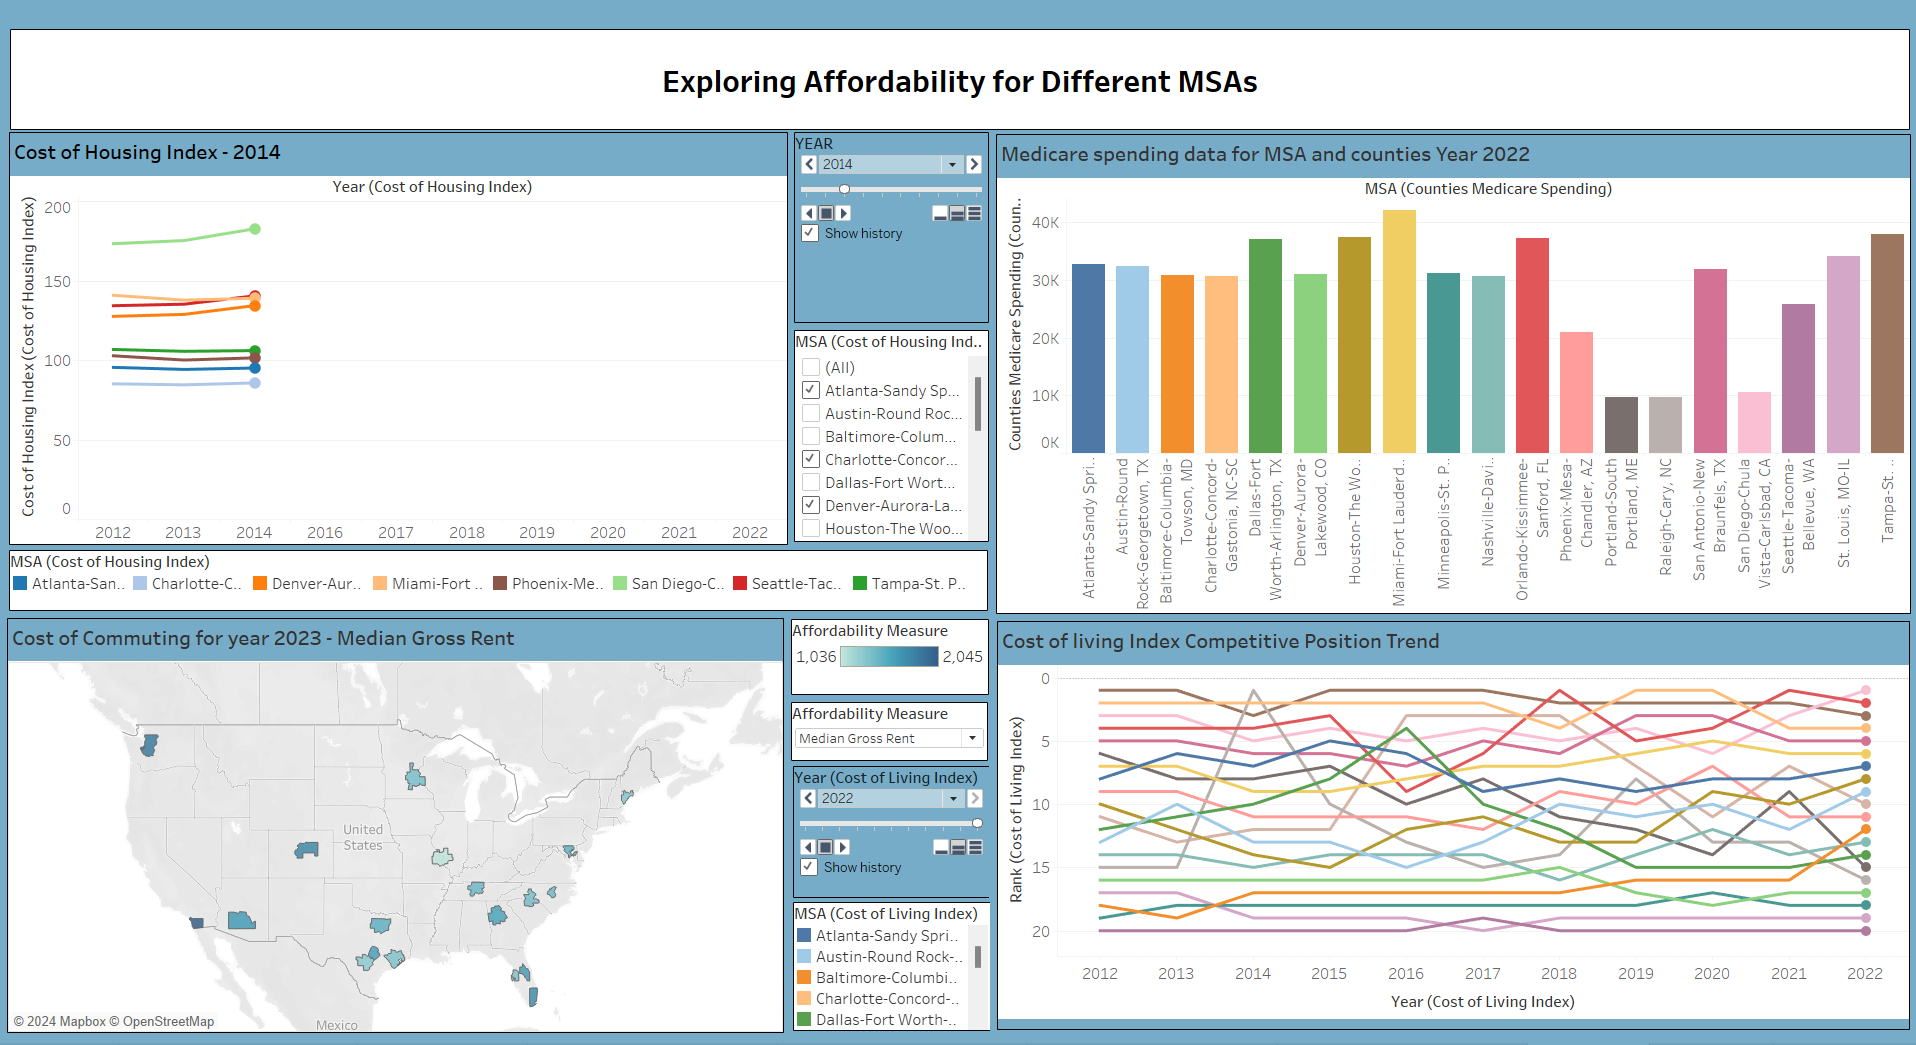

What the dashboard file says about the page in this screenshot:
{"tool":"tableau","page":{"name":"Dashboard 1","canvas":[1000,1000],"units":"permille","ordinal":0},"visuals":[{"type":"text","box":[6,28.2,989.7,96.4]},{"type":"worksheet","title":"Cost of Housing Index","mark":"Circle","rows":["Cost of Housing Index"],"cols":["Year (Cost of Housing Index)"],"box":[5.5,126.9,405.9,396]},{"type":"currpage","title":"Cost of Housing Index","box":[414.5,126.9,101.8,183.3]},{"type":"worksheet","title":"Medicare spending data for MSA and counties","mark":"Automatic","rows":["Counties Medicare Spending"],"cols":["MSA (Counties Medicare Spending)"],"box":[519.9,128.1,476.4,460.6]},{"type":"filter","title":"Cost of Housing Index","param":"[federated.0nevhgp1u82rwp0zt3kas08m5gsg].[none:MSA (Cost of Housing Index):nk]","box":[414.5,316.1,101.8,203.3]},{"type":"legend","title":"Cost of Housing Index","param":"[federated.0nevhgp1u82rwp0zt3kas08m5gsg].[none:MSA (Cost of Housing Index):nk]","box":[5.5,527.6,510.1,58.8]},{"type":"worksheet","title":"Cost of Commuting for year 2023","mark":"Multipolygon","cols":["Year (Median Gross Rent)"],"box":[4.9,592.2,404.7,398.4]},{"type":"legend","title":"Cost of Commuting for year 2023","param":"[federated.0nevhgp1u82rwp0zt3kas08m5gsg].[sum:Calculation_3169126773306941442:qk","box":[413.2,593.4,103,72.9]},{"type":"worksheet","title":"Cost of Living Index","mark":"Circle","rows":["Rank (Cost of Living Index)"],"cols":["Year (Cost of Living Index)"],"box":[520.5,595.8,475.8,392.5]},{"type":"parameter","param":"[Parameters].[Parameter 1]","box":[413.2,673.3,102.4,56.4]},{"type":"currpage","title":"Cost of Living Index","box":[413.9,734.4,102.4,126.9]},{"type":"legend","title":"Cost of Living Index","param":"[federated.0nevhgp1u82rwp0zt3kas08m5gsg].[none:MSA (Cost of Living Index):nk]","box":[413.9,864.9,103,123.4]}]}

Visuals, with their boxes on the dashboard's canvas, which has no fixed pixel size, in thousandths of its width and height (x1, y1, x2, y2). These are canvas units, not pixel positions in the 1916x1045 screenshot, which may show the page scaled, cropped or inside an application window:
text: x1=6 y1=28 x2=996 y2=125
"Cost of Housing Index" worksheet (Circle marks): x1=6 y1=127 x2=411 y2=523
"Cost of Housing Index" currpage: x1=414 y1=127 x2=516 y2=310
"Medicare spending data for MSA and counties" worksheet: x1=520 y1=128 x2=996 y2=589
"Cost of Housing Index" filter: x1=414 y1=316 x2=516 y2=519
"Cost of Housing Index" legend: x1=6 y1=528 x2=516 y2=586
"Cost of Commuting for year 2023" worksheet (Multipolygon marks): x1=5 y1=592 x2=410 y2=991
"Cost of Commuting for year 2023" legend: x1=413 y1=593 x2=516 y2=666
"Cost of Living Index" worksheet (Circle marks): x1=520 y1=596 x2=996 y2=988
parameter: x1=413 y1=673 x2=516 y2=730
"Cost of Living Index" currpage: x1=414 y1=734 x2=516 y2=861
"Cost of Living Index" legend: x1=414 y1=865 x2=517 y2=988
